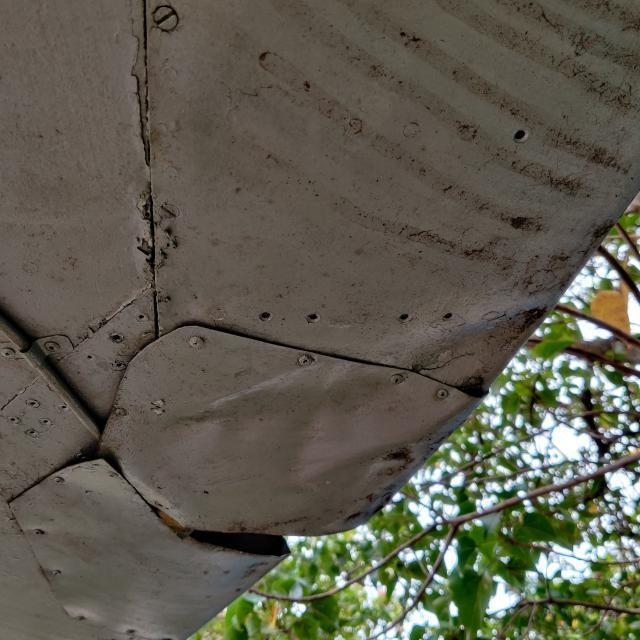Dent: (158, 286, 559, 504)
